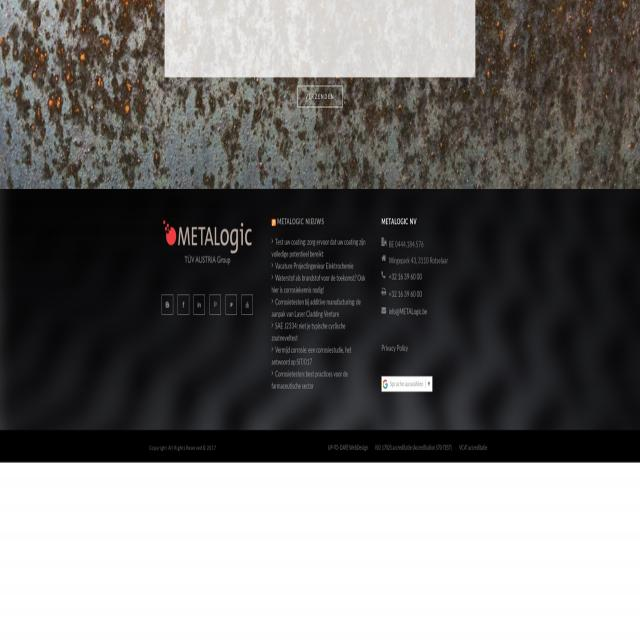button: (162, 216, 252, 270), (162, 294, 173, 314), (193, 294, 204, 314), (226, 294, 237, 314), (178, 294, 188, 314), (210, 294, 220, 314), (242, 294, 252, 314), (382, 270, 386, 280), (382, 237, 386, 246), (382, 287, 386, 296), (382, 254, 386, 262), (382, 306, 386, 314), (272, 220, 276, 227)
field: (382, 376, 432, 392)
